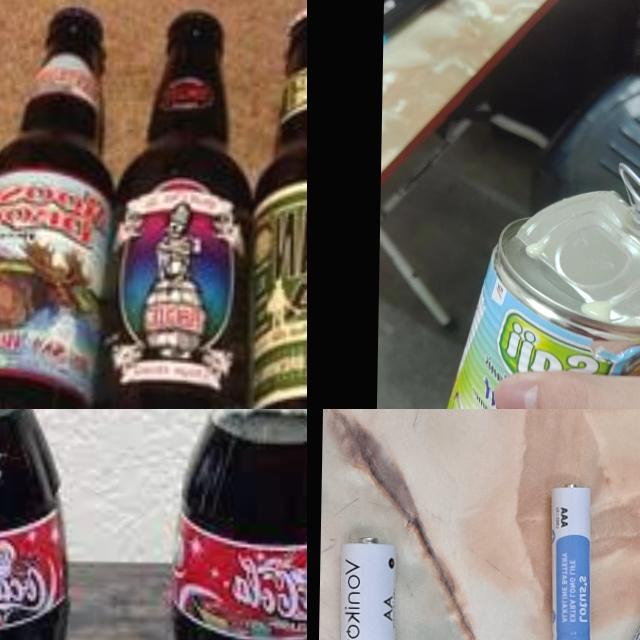aba de lata: (614, 162, 640, 231)
bateria: (548, 482, 591, 640), (339, 536, 396, 640)
garrafa de vidro: (82, 4, 257, 409), (0, 2, 114, 409), (158, 409, 307, 640), (244, 4, 307, 409), (0, 409, 84, 640)
lata: (435, 158, 640, 409)
